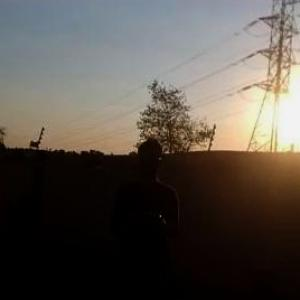follow: (106, 135, 183, 299)
